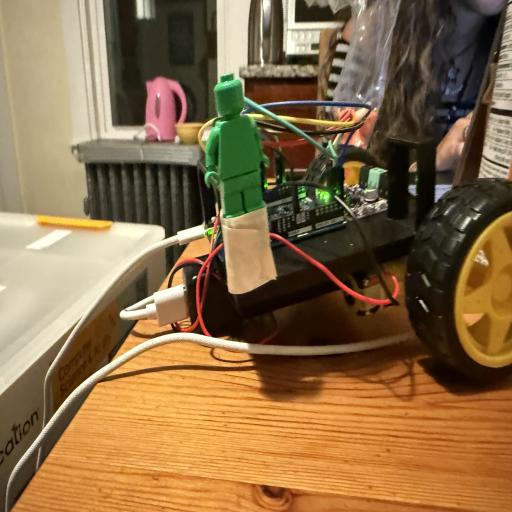Minifig: (205, 73, 268, 218)
